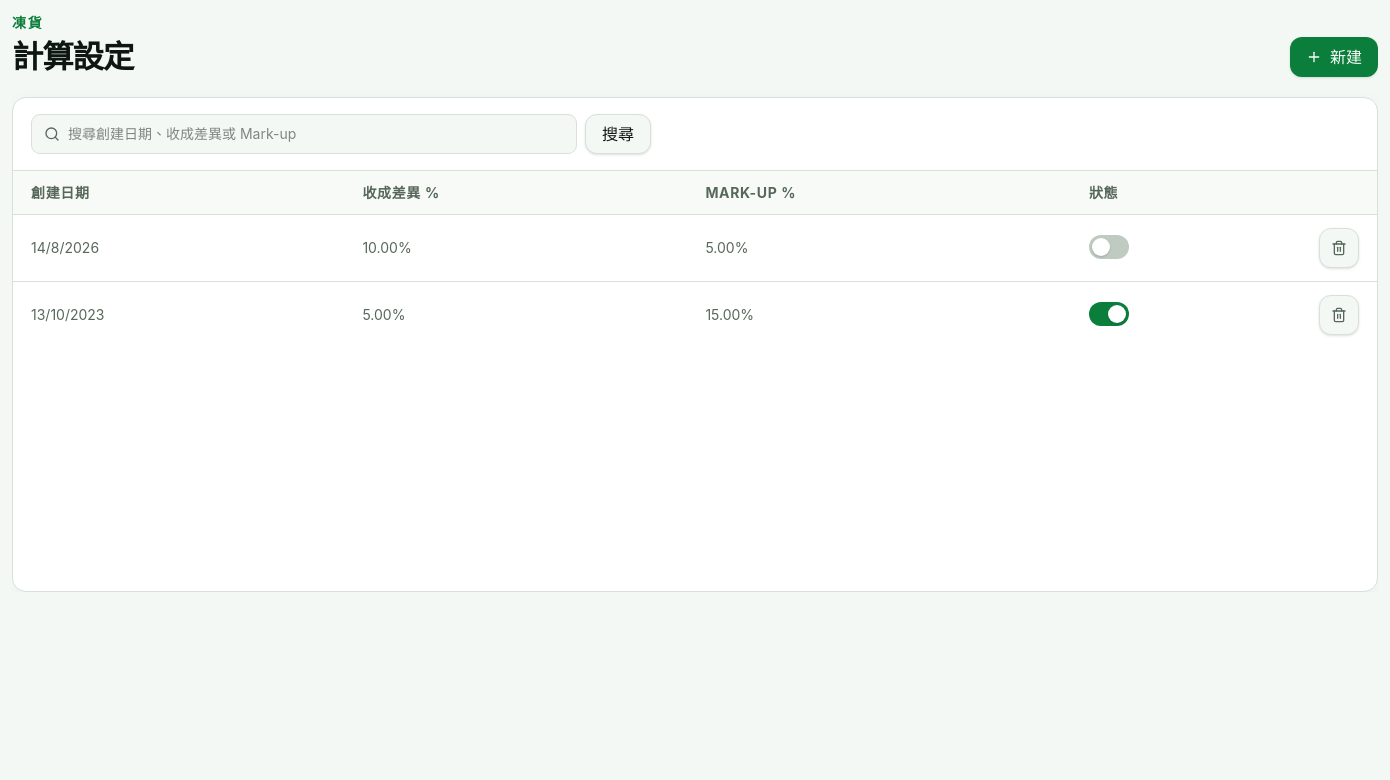
Test: Calculation settings page › deletes a setting when more than one remains
Expected: the text "10.00%" is shown, [344,214,687,281]
Click the button named "刪除" in the row of "14/8/2026".
click(1339, 248)  # box [1319,228,1359,268]
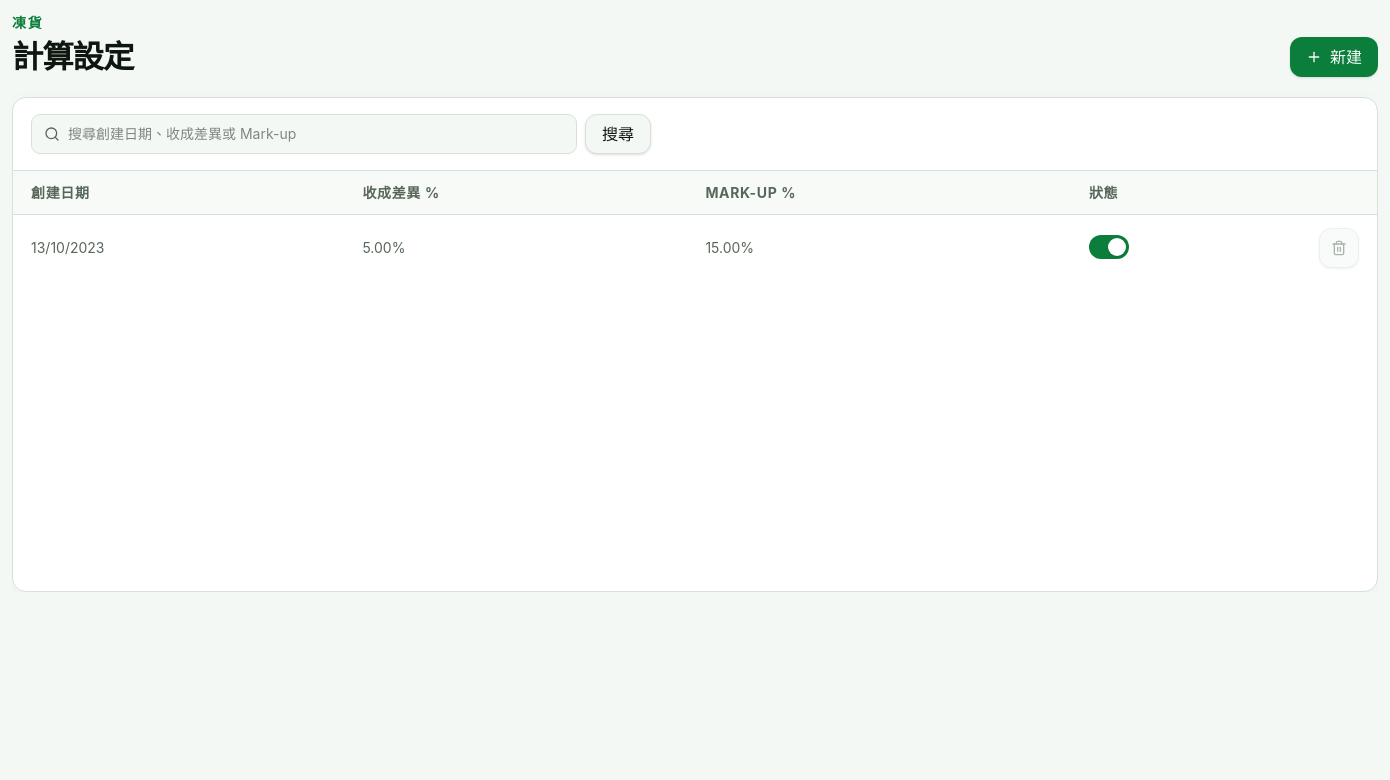
Expected: the text "10.00%" is gone
Expected: the button named "最後一組計算設定不可刪除" is disabled, [1319,228,1359,268]
